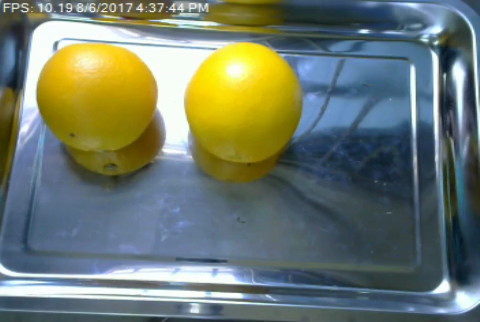Orange: (184, 42, 302, 164), (35, 42, 158, 150)
